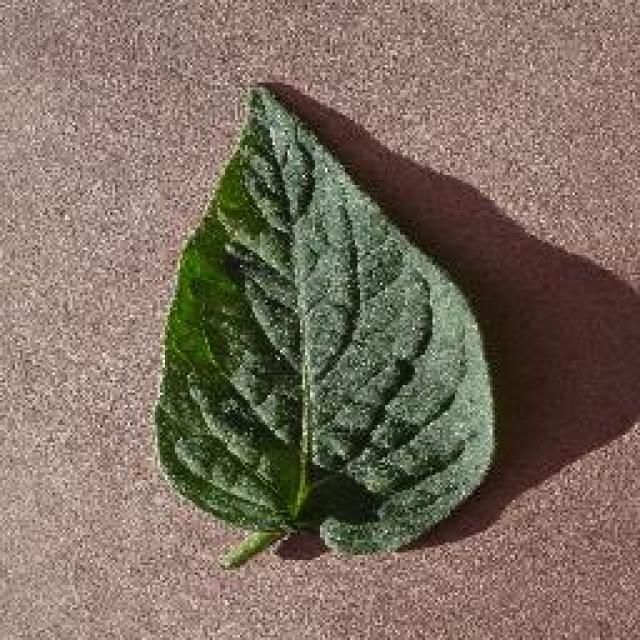Tomato___Spider_mites Two-spotted_spider_mite: (155, 85, 492, 565)
